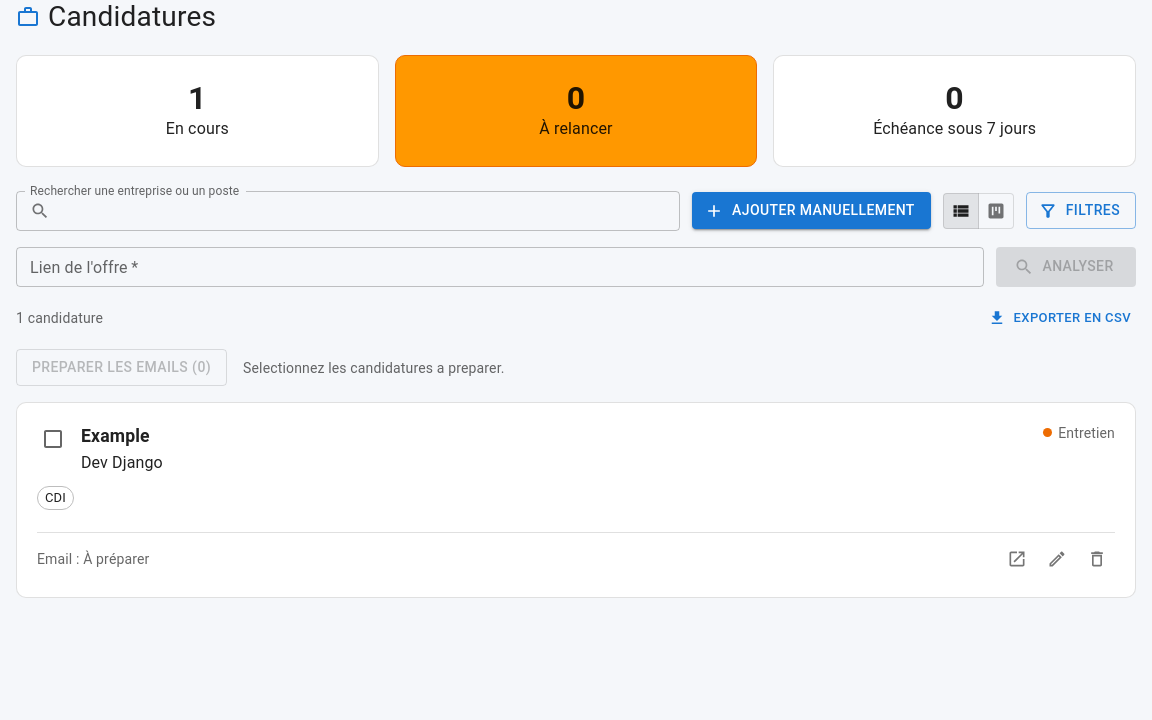
lists statuses and only deletes after confirmation
The width and height of the screenshot is (1152, 720).
expect the heading "Dev Django" is shown: met, box [81,450,163,476]
expect the text "Entretien" is shown: met, box [1058,423,1115,443]
Click the button named "Supprimer Dev Django".
click(1097, 559)  # box [1079,541,1115,577]
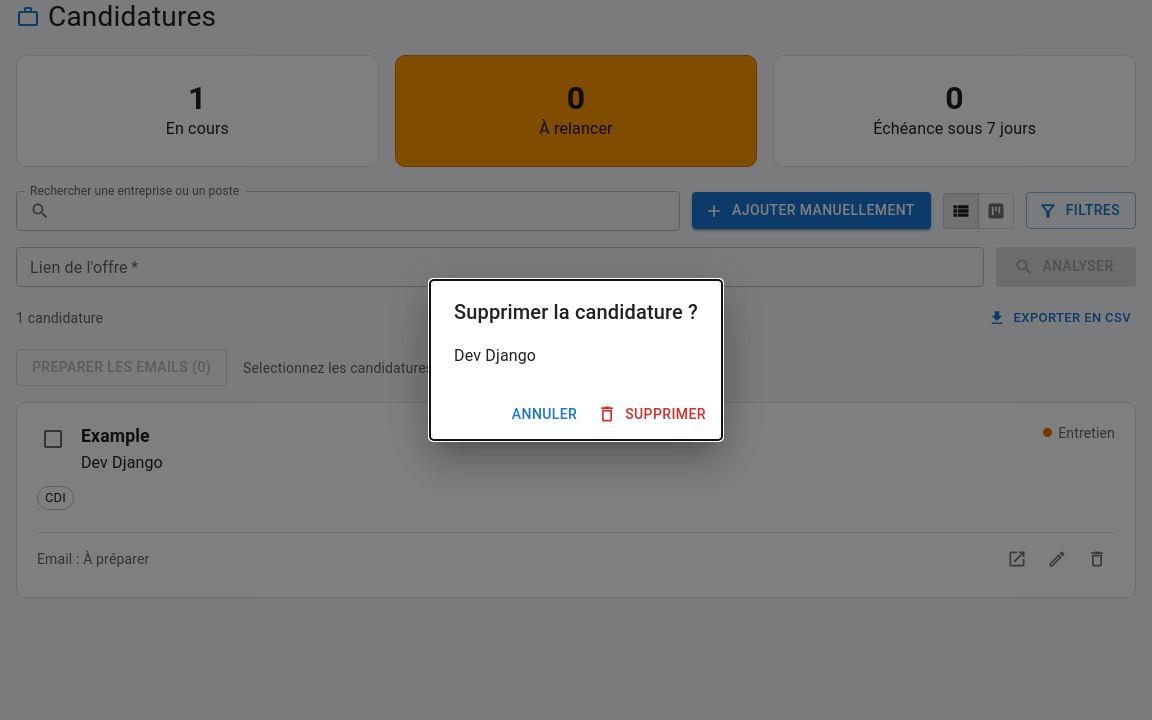
Click the button "Supprimer".
click(654, 414)  # box [593,396,714,432]
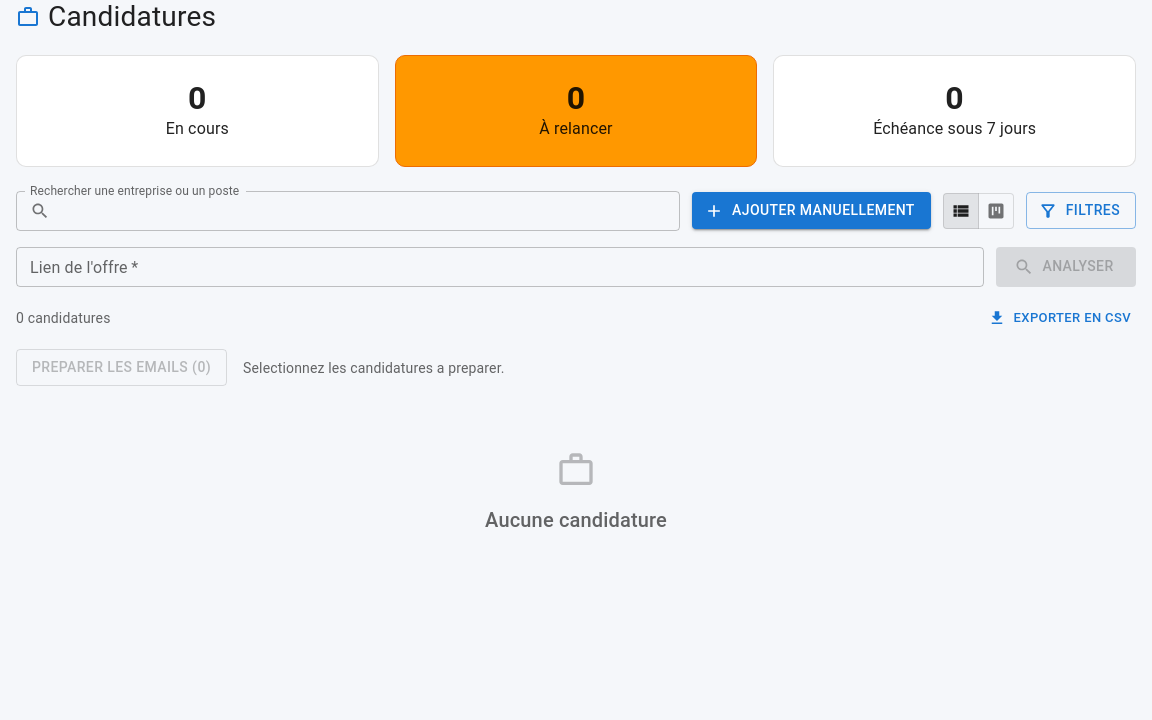
expect the heading "Aucune candidature" is shown: met, box [485,508,667,532]
